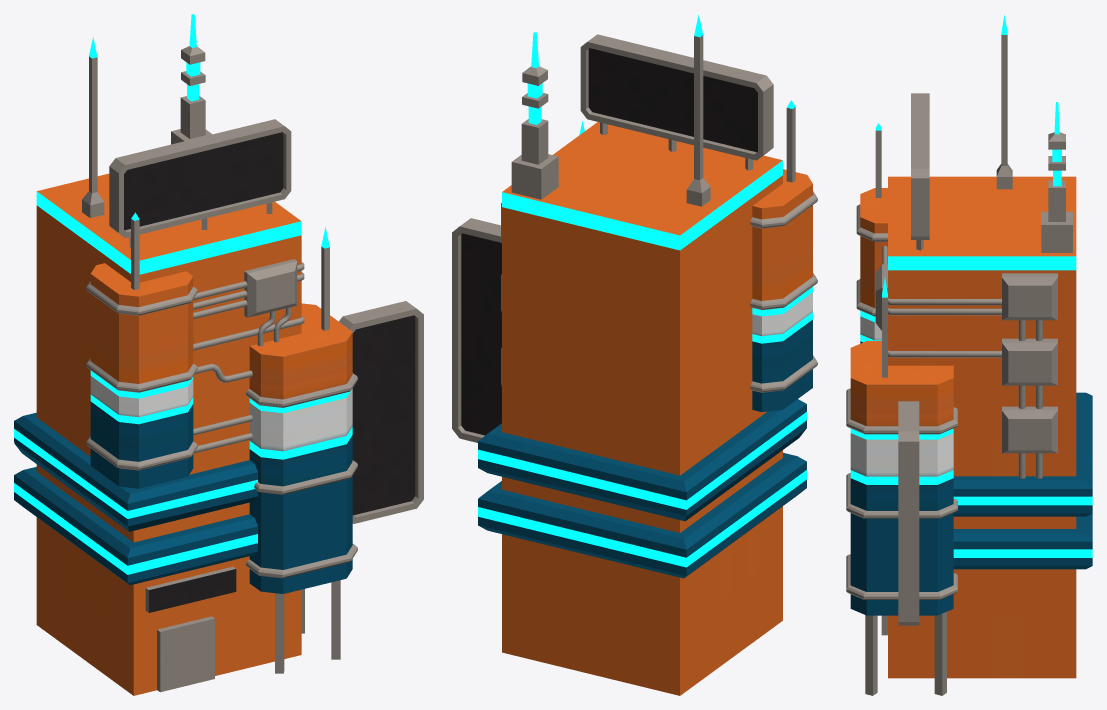
Rendered from Building.fbx.
The picture shows the model from 3 angles, left to right: view 1: azimuth 30°, elevation 25°; view 2: azimuth 150°, elevation 25°; view 3: azimuth 270°, elevation 25°; orthographic projection. The views are drawn at different scales.
Parts seen in each view (by area): view 1: predio1; view 2: predio1; view 3: predio1.
Part boxes in pixels (<box>): predio1: <box>14,14,423,695</box>; predio1: <box>452,15,817,695</box>; predio1: <box>846,14,1092,695</box>.
Bounding box in the file's own units: 382 × 699 × 261.
